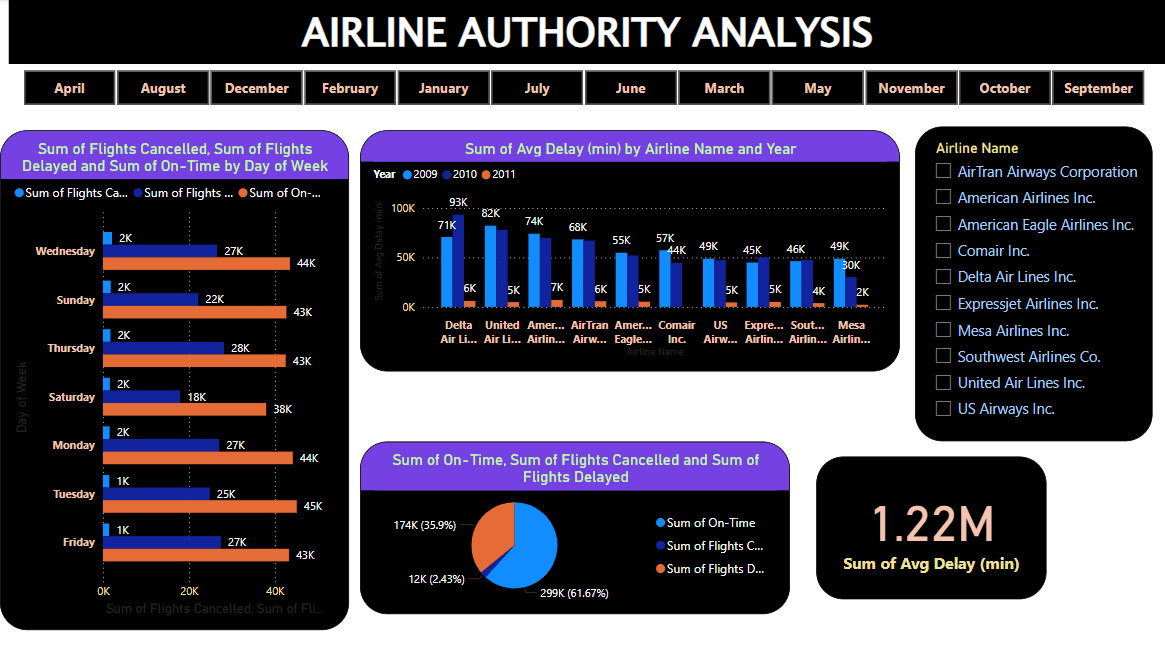

The page's visual inventory and layout, read from the dashboard file:
{"tool":"powerbi","page":{"name":"Page 1","canvas":[1280,720],"ordinal":0},"visuals":[{"type":"textbox","box":[9.6,0,1270.7,81],"z":0},{"type":"slicer","fields":{"Values":["Sheet1.Month"]},"box":[0,71.4,1280.3,52.1],"z":1},{"type":"clusteredBarChart","fields":{"Category":["Sheet1.Day of Week"],"Y":["Sum(Sheet1.Flights Cancelled)","Sum(Sheet1.Flights Delayed)","Sum(Sheet1.On-Time)"]},"box":[0,144.1,382.8,548.9],"z":2},{"type":"slicer","fields":{"Values":["Sheet1.Airline Name"]},"box":[1004.5,140,260.7,345.8],"z":3},{"type":"pieChart","fields":{"Y":["Sum(Sheet1.On-Time)","Sum(Sheet1.Flights Cancelled)","Sum(Sheet1.Flights Delayed)"]},"box":[395.2,485.8,472,189.4],"z":4},{"type":"clusteredColumnChart","fields":{"Category":["Sheet1.Airline Name"],"Y":["Sum(Sheet1.Avg Delay (min))"],"Series":["Sheet1.Year"]},"box":[395.2,144.1,592.8,264.8],"z":5},{"type":"card","fields":{"Values":["Sum(Sheet1.Avg Delay (min))"]},"box":[896.1,502.2,252.5,156.4],"z":6}]}

Visuals, with their boxes in screenshot pixels (x1, y1, x2, y2), scaled from the page's 1280x720 canvas onto the 1165x654 screenshot:
textbox: {"x1": 9, "y1": 0, "x2": 1164, "y2": 74}
slicer - Sheet1.Month: {"x1": 0, "y1": 65, "x2": 1164, "y2": 112}
clusteredBarChart - Sheet1.Day of Week x Sum(Sheet1.Flights Cancelled): {"x1": 0, "y1": 131, "x2": 348, "y2": 629}
slicer - Sheet1.Airline Name: {"x1": 914, "y1": 127, "x2": 1152, "y2": 441}
pieChart - Sum(Sheet1.On-Time) x Sum(Sheet1.Flights Cancelled): {"x1": 360, "y1": 441, "x2": 789, "y2": 613}
clusteredColumnChart - Sheet1.Airline Name x Sum(Sheet1.Avg Delay (min)): {"x1": 360, "y1": 131, "x2": 899, "y2": 371}
card - Sum(Sheet1.Avg Delay (min)): {"x1": 816, "y1": 456, "x2": 1045, "y2": 598}
